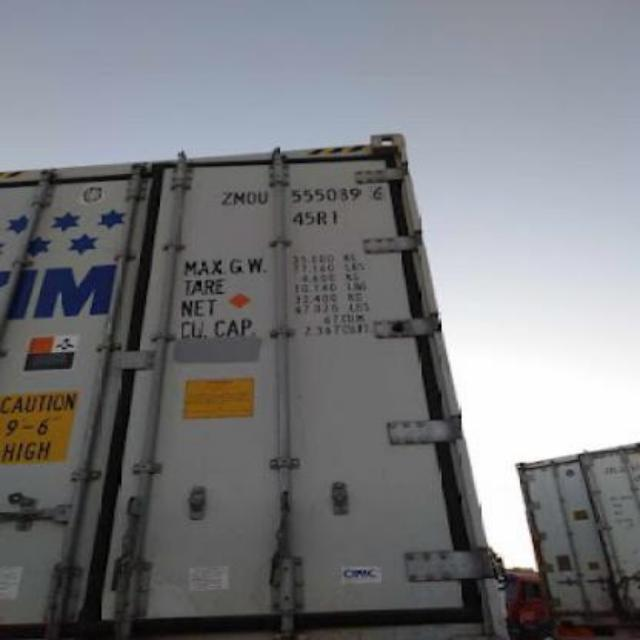0: (324, 186, 340, 200)
5: (314, 186, 328, 202), (290, 188, 302, 202), (302, 188, 314, 202)
6: (370, 183, 386, 201)
8: (336, 186, 352, 202)
9: (350, 185, 360, 201)
M: (232, 192, 245, 204)
O: (248, 192, 258, 204)
U: (258, 190, 270, 204)
Z: (216, 190, 232, 206)
